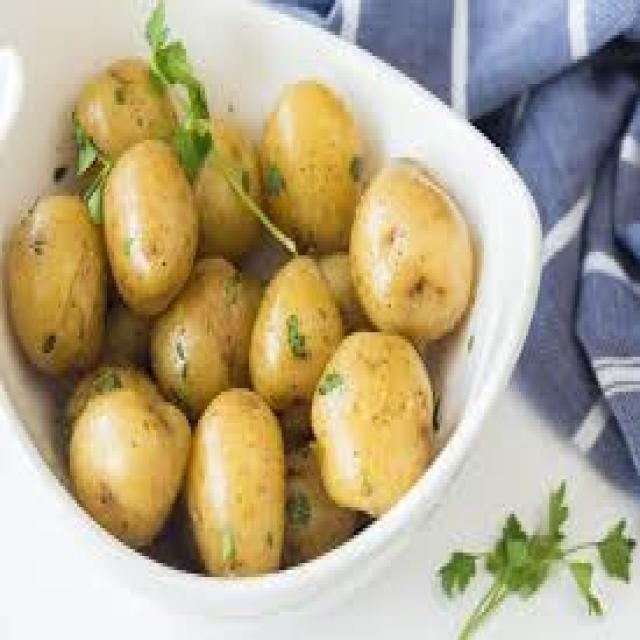Potato: (343, 163, 496, 355), (303, 303, 425, 535), (166, 366, 288, 584), (250, 75, 380, 258), (70, 355, 184, 559), (6, 192, 115, 398), (226, 250, 352, 410), (97, 130, 189, 310), (152, 272, 253, 396), (66, 45, 180, 153)
